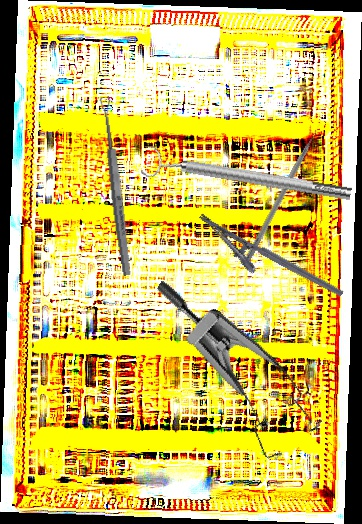Fixation Ring: (140, 142, 354, 213)
Needle Holder: (187, 211, 345, 318)
Pusher: (244, 120, 326, 262)
Speculum: (111, 278, 344, 473)
Surgical Spoon: (99, 95, 133, 277)
